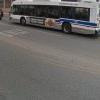Bus: (8, 1, 98, 33)
